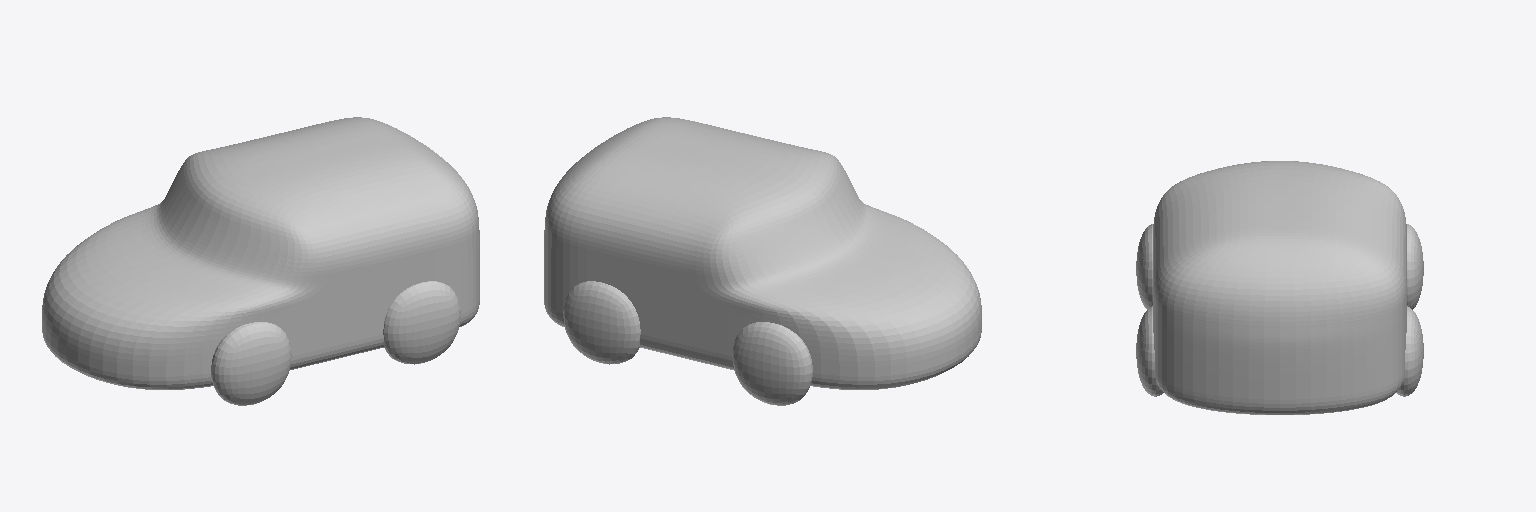
Rendered from tempCar.obj.
The picture shows the model from 3 angles: view 1: azimuth 30°, elevation 25°; view 2: azimuth 150°, elevation 25°; view 3: azimuth 270°, elevation 25°; orthographic projection.
Visible parts, largest first — view 1: Cube.001; view 2: Cube.001; view 3: Cube.001.
Boxes of the visible parts, x1=… form: Cube.001: x1=42, y1=117, x2=479, y2=405; Cube.001: x1=544, y1=117, x2=981, y2=405; Cube.001: x1=1136, y1=161, x2=1423, y2=414.
Bounding box in the file's own units: 2.36 × 0.9841 × 1.49.